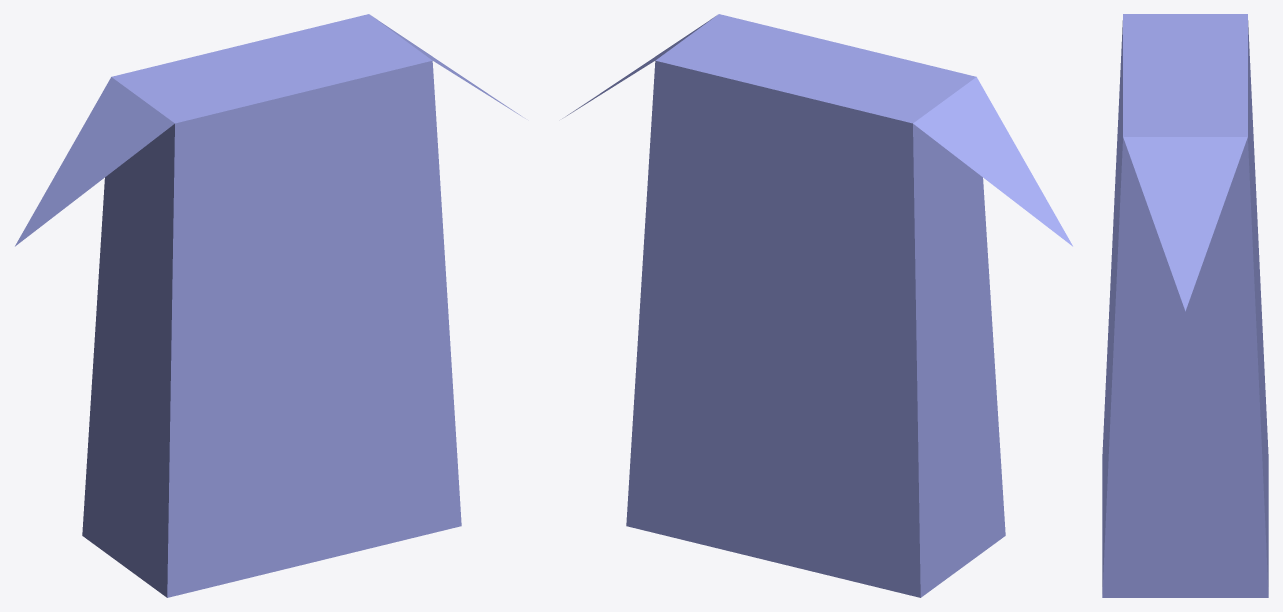
Rendered from polera_b_sica_de_algod_n_8500eb89.glb.
3 views of the same model, side by side, from view 1: azimuth 30°, elevation 25°; view 2: azimuth 150°, elevation 25°; view 3: azimuth 270°, elevation 25° (orthographic). The views are drawn at different scales.
Visible parts, largest first — view 1: Polera Básica de Algodón; view 2: Polera Básica de Algodón; view 3: Polera Básica de Algodón.
Part boxes in pixels (left/top/right/bottom): Polera Básica de Algodón: left=15, top=14, right=525, bottom=597; Polera Básica de Algodón: left=562, top=14, right=1072, bottom=597; Polera Básica de Algodón: left=1102, top=14, right=1268, bottom=597.
Size of the model in its own units: 1.4 by 1.2 by 0.4.
